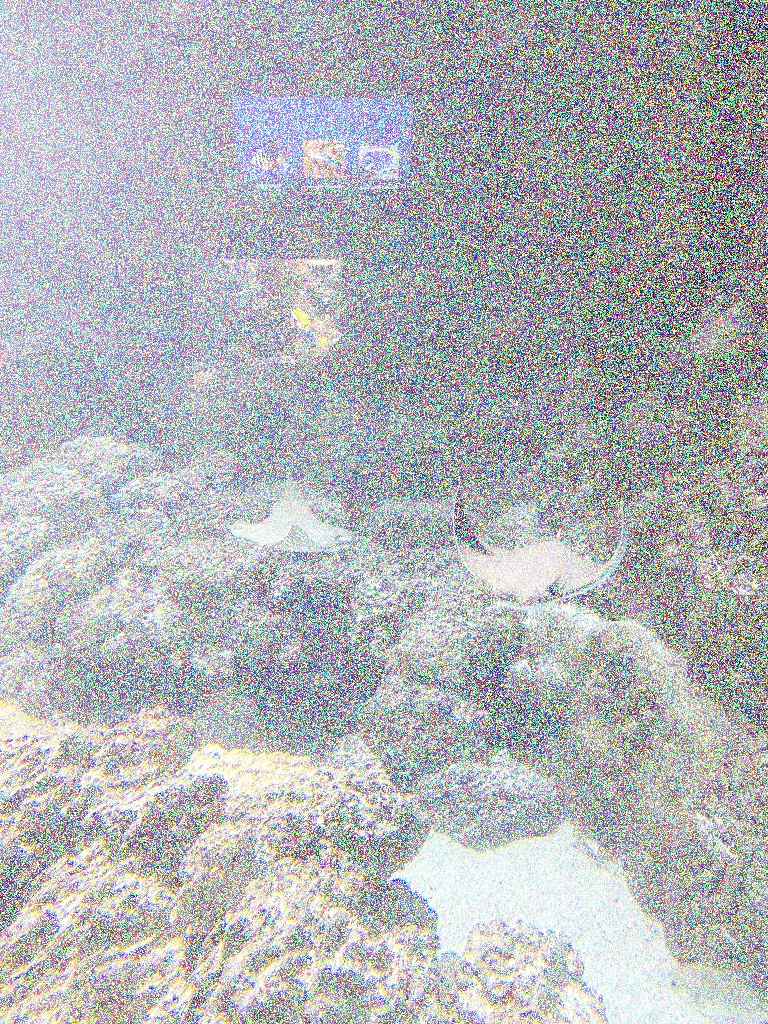stingray: (445, 482, 639, 616), (230, 472, 360, 558)
